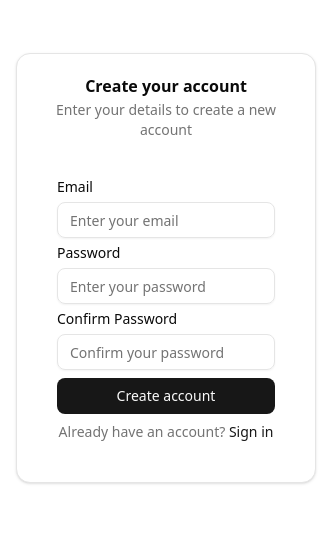
it: Register › should show error message on registration failure
The width and height of the screenshot is (333, 538).
Type "test@example.com" into the field labelled "Email" at (166, 220), box top-left (57, 202), bottom-right (275, 238)
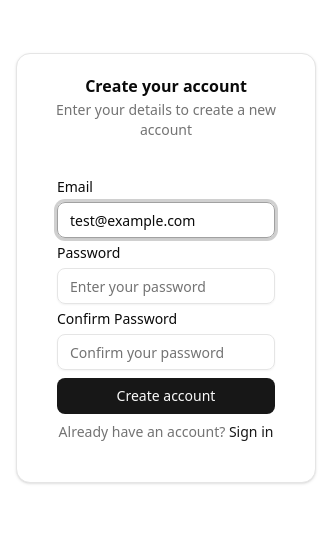
Type "password123" into the password field labelled "Password" at (166, 286), box top-left (57, 268), bottom-right (275, 304)
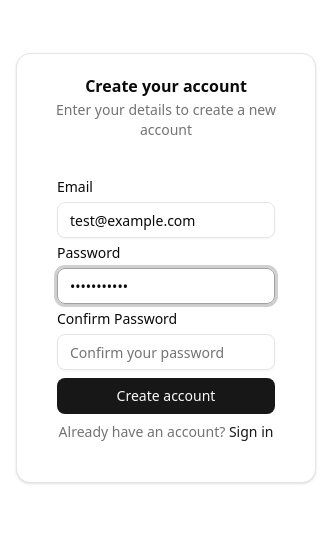
Type "password123" into the password field labelled "Confirm Password" at (166, 352), box top-left (57, 334), bottom-right (275, 370)
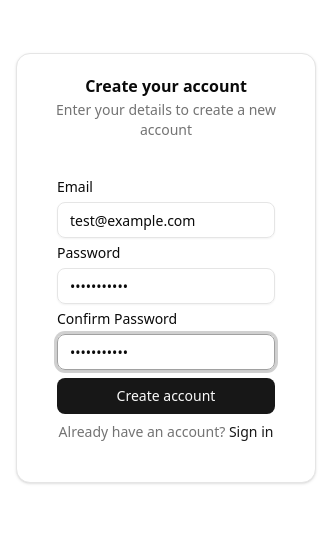
Click the button "Create account" at (166, 396), box top-left (57, 378), bottom-right (275, 414)
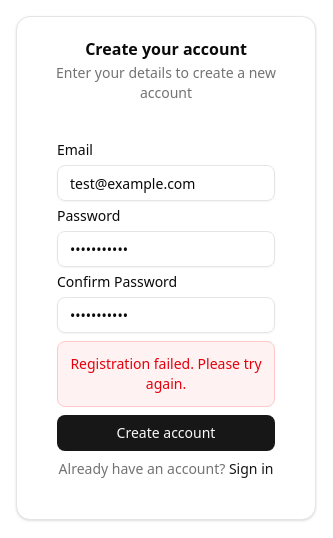
Expected: the text "Registration failed. Please try again." is shown, top-left (57, 341), bottom-right (275, 407)
